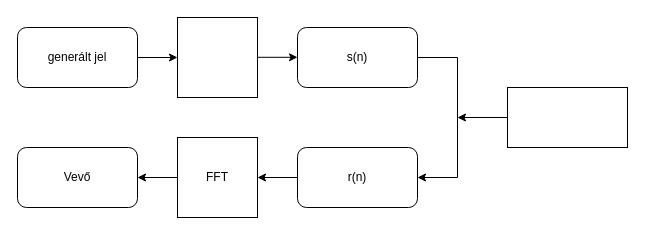
The diagram is 645 pixels wide and 235 high, and some of its shapes have lost their labels. Here are the shapes that lost their labels. From the top down, the centre of each, then its label:
At [217,57]: "IFFT".
At [567,117]: "zaj + frekvenciahiba generátor".
